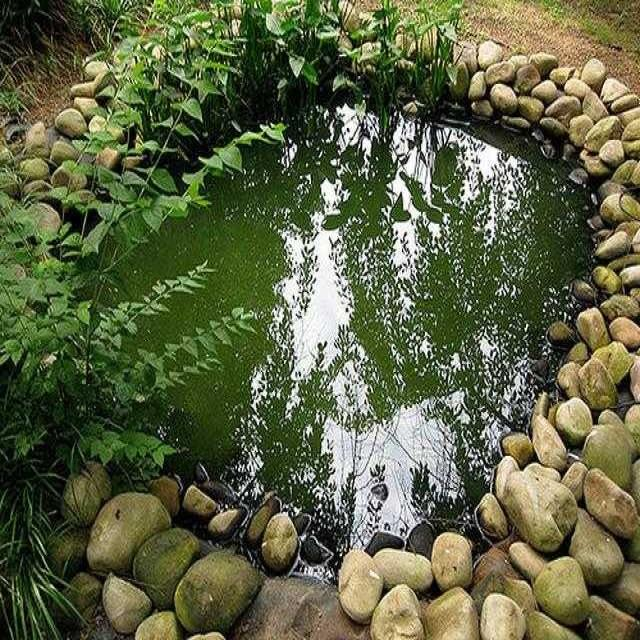Ponds: (1, 18, 640, 640)
